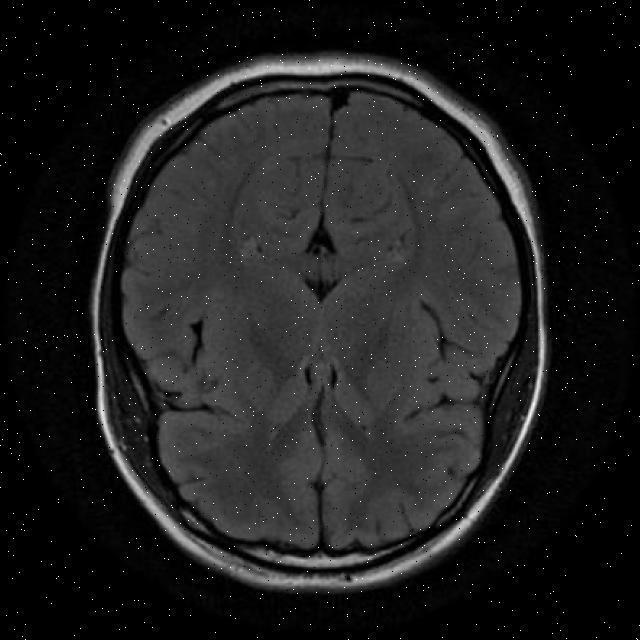No_Tumor: (93, 54, 544, 589)
